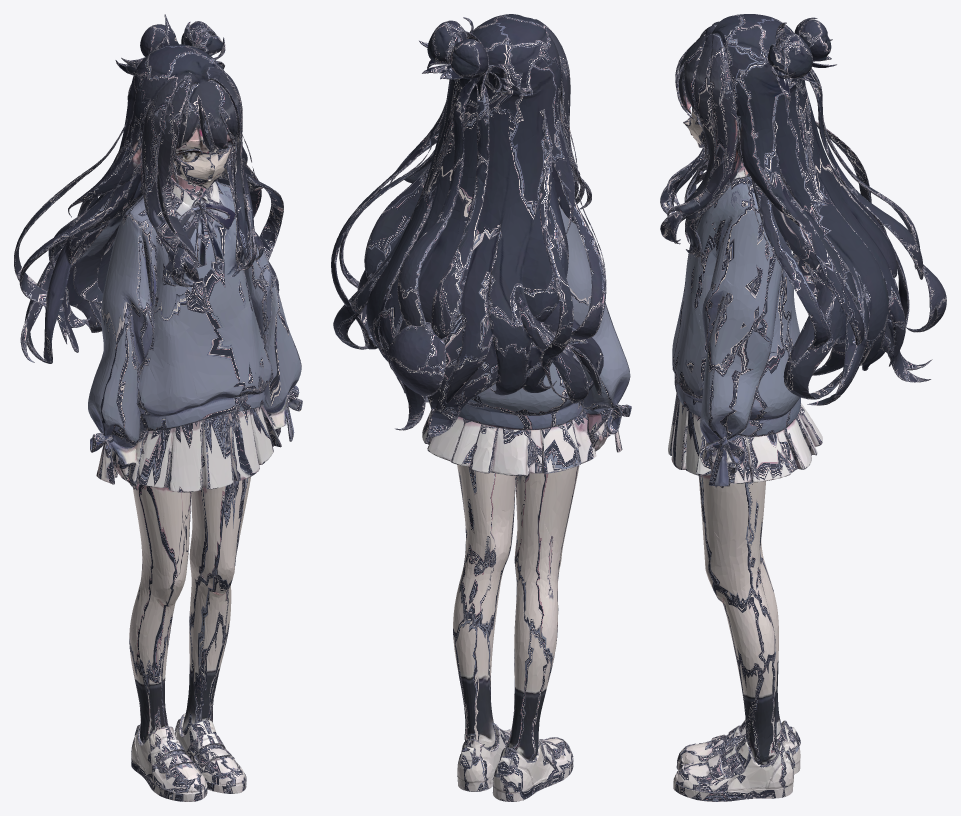
File: girl_web.glb
3 renders of one model, left to right at view 1: azimuth 30°, elevation 25°; view 2: azimuth 150°, elevation 25°; view 3: azimuth 270°, elevation 25°, orthographic. The views are drawn at different scales.
Parts seen in each view (by area): view 1: geometry_0; view 2: geometry_0; view 3: geometry_0.
Part boxes in pixels (x1,y1,x2,y2): geometry_0: (14,14,302,801); geometry_0: (331,14,631,801); geometry_0: (660,14,946,801).
Size of the model in its own units: 0.4195 by 1.15 by 0.3886.
1 material, 1 textured.
